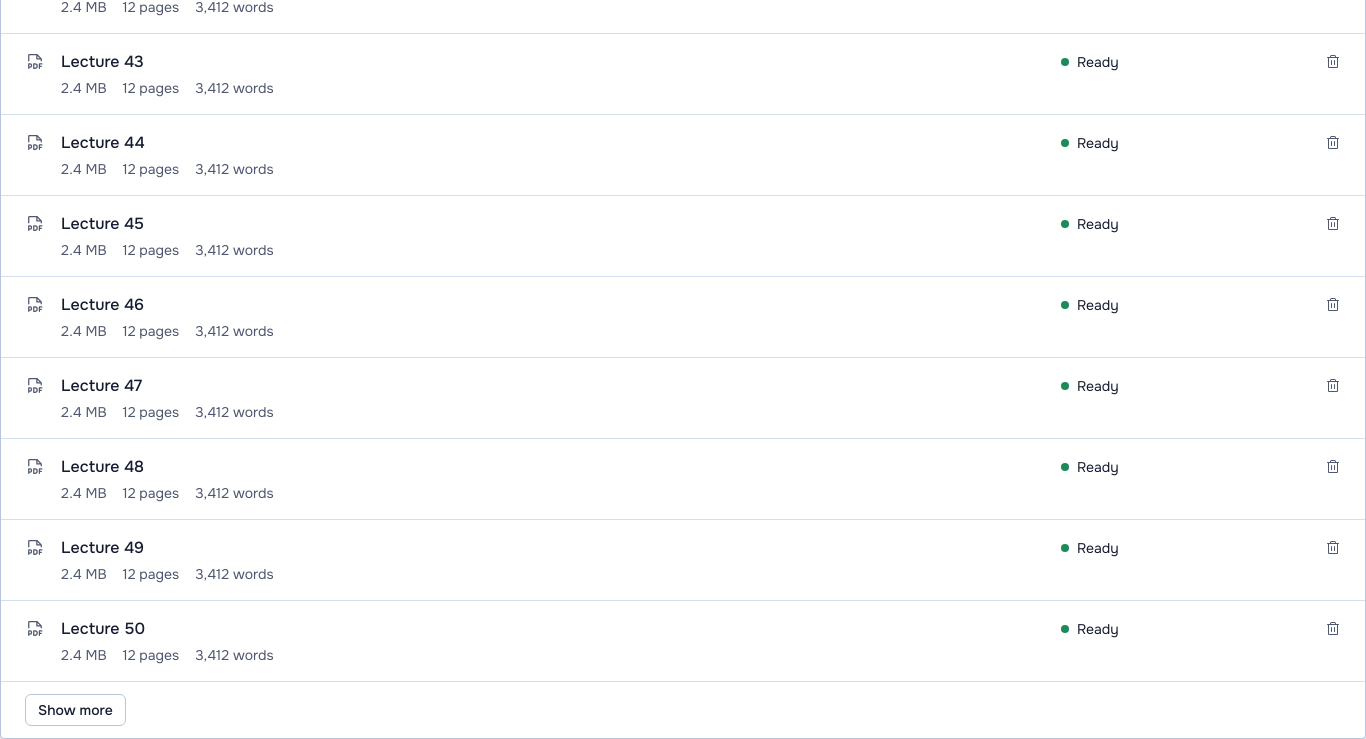
Test: DocumentList › keeps the rows when the next page fails, and loads it on another try
(page scrolled)
Click the button "Show more" at [75, 710], box [25,694,126,726]
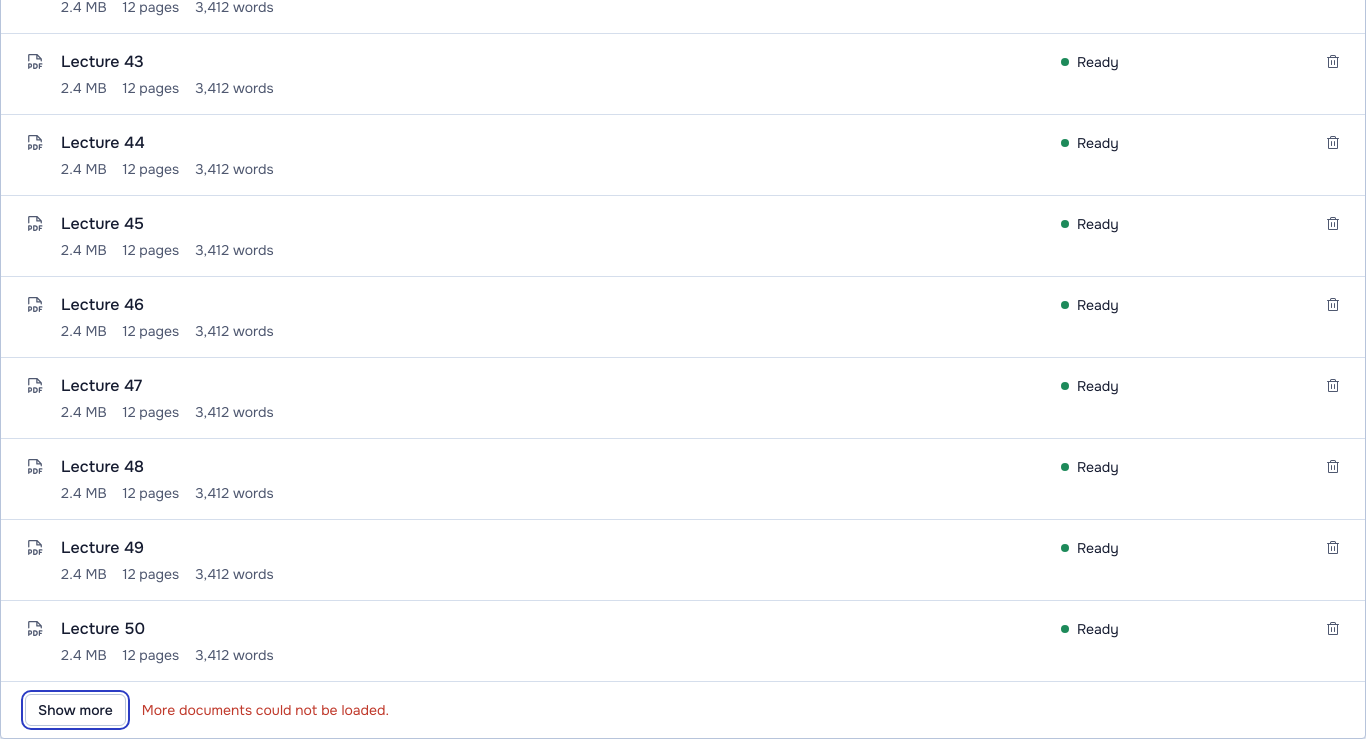
expect the message reads "More documents could not be loaded.": met, box [142,701,389,719]
Click the button "Show more" at [75, 710], box [25,694,126,726]
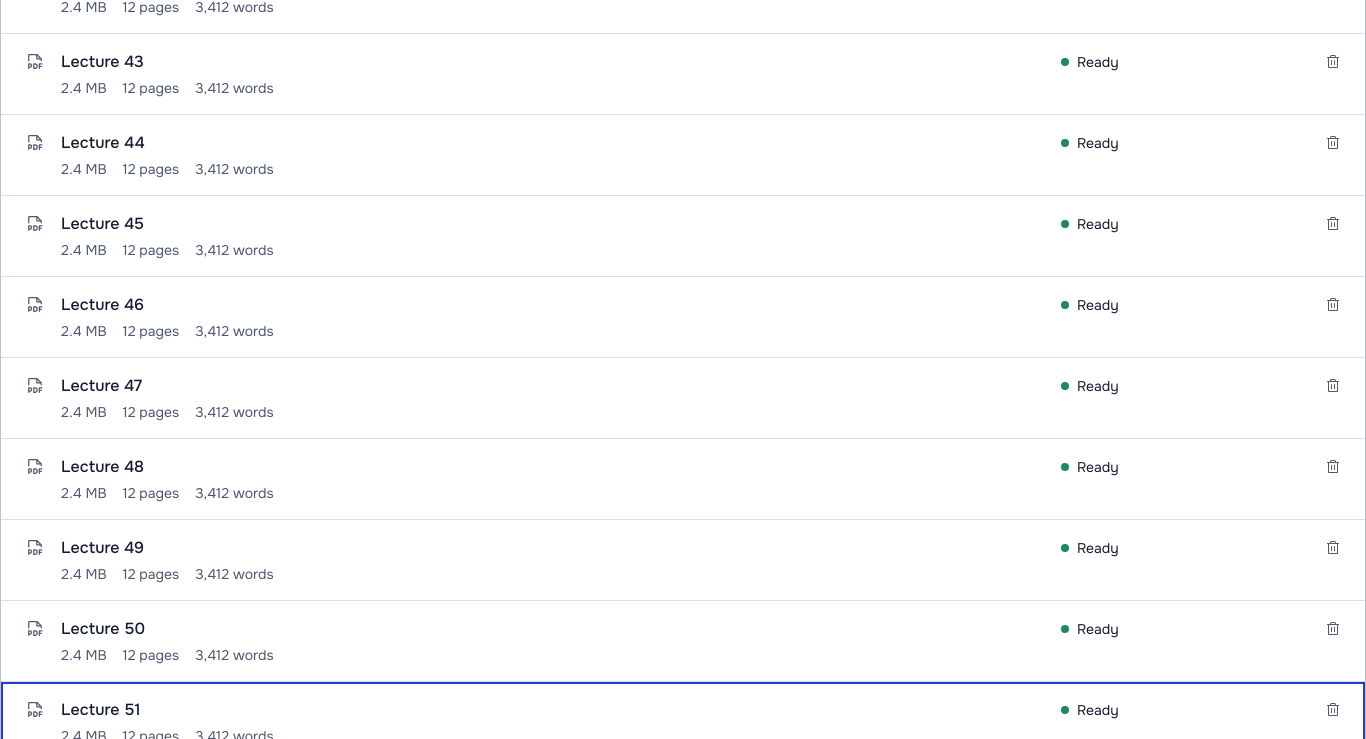
expect the link "Lecture 51" is shown: met, box [61,699,140,720]
expect the message "More documents could not be loaded." is gone: met
